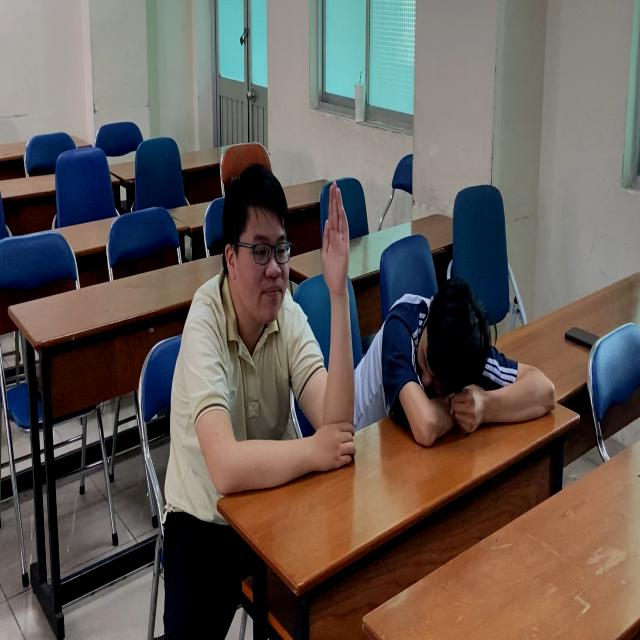raise_hand: (185, 162, 355, 506)
sleep: (360, 278, 566, 459)
